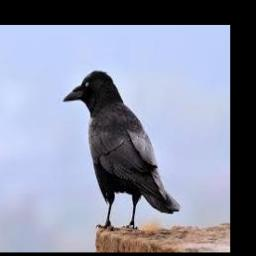Crow: (63, 69, 181, 230)
